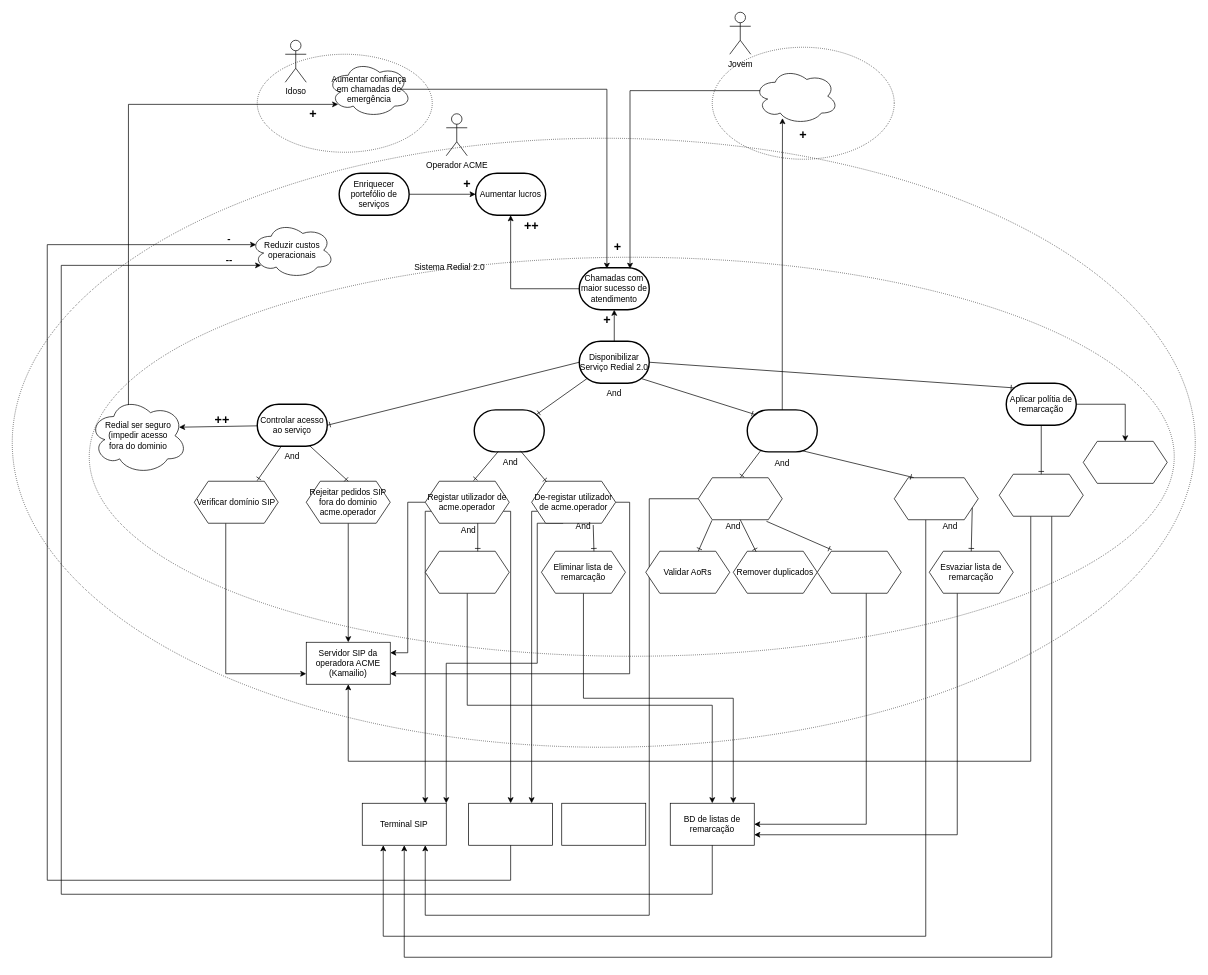
Some shapes in this 1208 by 975 pixel diagram are drawn without their labels. The centre of each missing label's shape, as x and y in pixels:
Atualizar BD lista de remarcação: the point at 859,572
Aumentar probabilidade de chamadas atendidas: the point at 796,96
BD registos SIP: the point at 510,824
Criar lista de remarcação vazia: the point at 467,572
Executar remarcação automática até N tentativas: the point at 1041,495
Gerir estado de registo SIP: the point at 509,430
Gerir lista de remarcação: the point at 782,430
Lógica do serviço Redial (Scripts Phyton): the point at 603,824
Preservar comportamneto normal chamada básica: the point at 1125,462
Processar ACTIVE user1 user2 ...: the point at 740,498
Processar DEACTIVATE: the point at 936,498
